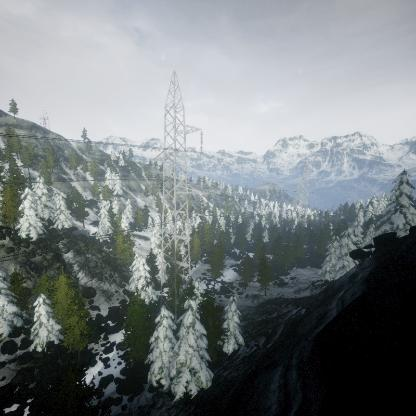tower: (149, 69, 207, 299)
